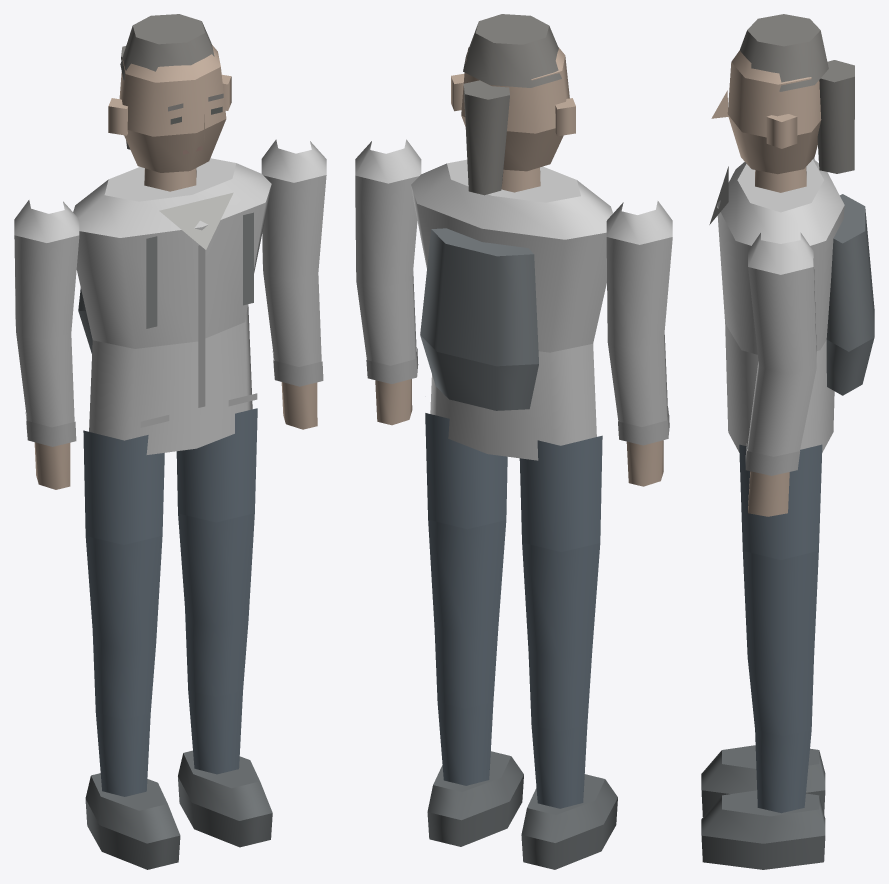
File: walker_6.glb
3 views of the same model, side by side, from view 1: azimuth 30°, elevation 25°; view 2: azimuth 150°, elevation 25°; view 3: azimuth 270°, elevation 25° (orthographic).
Visible parts, largest first — view 1: walker_6; view 2: walker_6; view 3: walker_6.
Boxes of the visible parts, left/top/right/bottom form: walker_6: left=14, top=14, right=326, bottom=869; walker_6: left=355, top=14, right=672, bottom=869; walker_6: left=701, top=14, right=874, bottom=869.
Bounding box in the file's own units: 0.71 × 1.73 × 0.3385.
